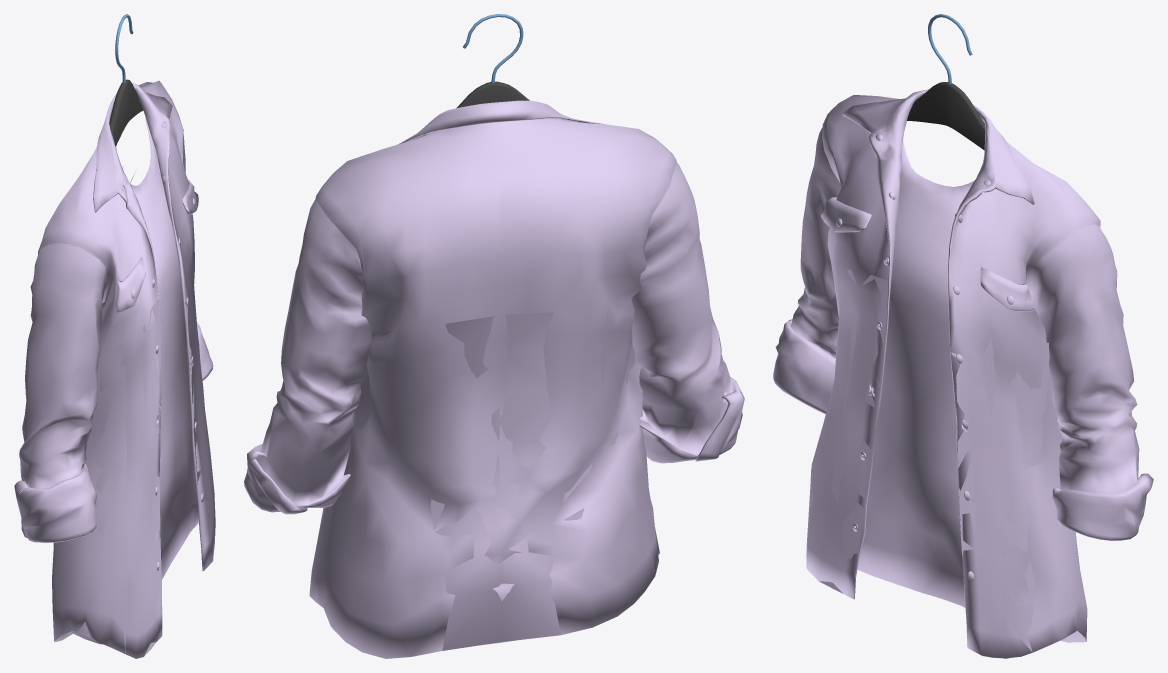
3 views of the same model, side by side, from view 1: azimuth 30°, elevation 25°; view 2: azimuth 150°, elevation 25°; view 3: azimuth 270°, elevation 25° (orthographic). The views are drawn at different scales.
Parts seen in each view (by area): view 1: WraithMesh013, Group010; view 2: WraithMesh013, Group010; view 3: WraithMesh013, Group010.
Part boxes in pixels (<box>): WraithMesh013: <box>14,80,215,658</box>; Group010: <box>109,14,143,146</box>; WraithMesh013: <box>244,100,744,658</box>; Group010: <box>423,14,529,135</box>; WraithMesh013: <box>773,89,1153,658</box>; Group010: <box>907,14,985,150</box>.
Bounding box in the file's own units: 41 × 70.33 × 40.07.
